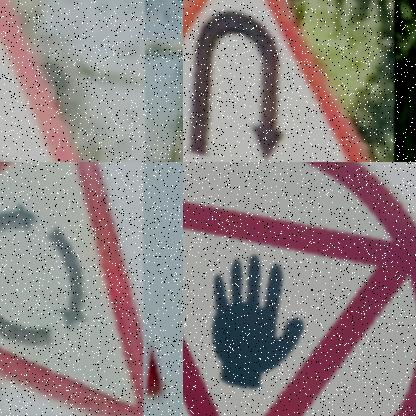Stop: (183, 162, 416, 416)
U-Turn: (183, 0, 369, 162)
